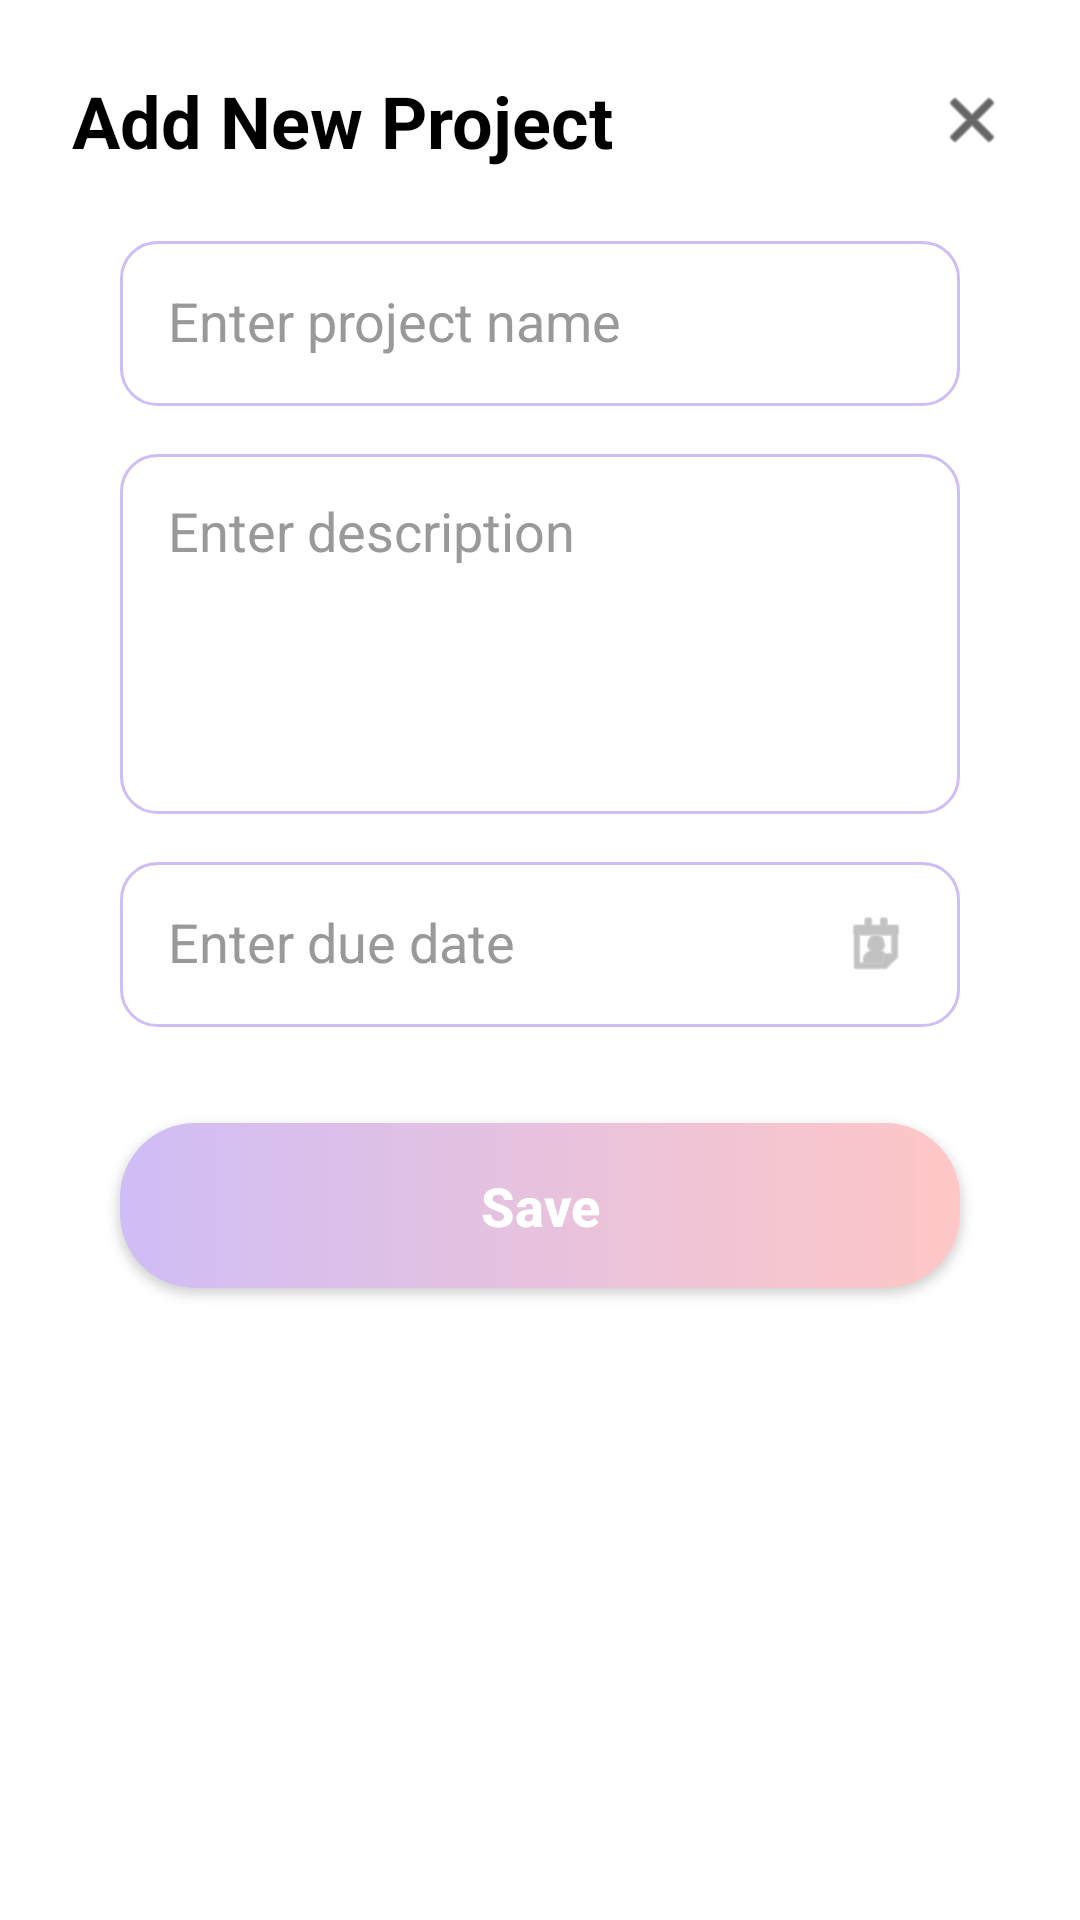

Where icons sit on this 1080 x 1920 app screen, as BBox(x1, y1, x2, y2):
calendar: BBox(853, 917, 899, 969)
close clear cancel: BBox(949, 97, 995, 143)
